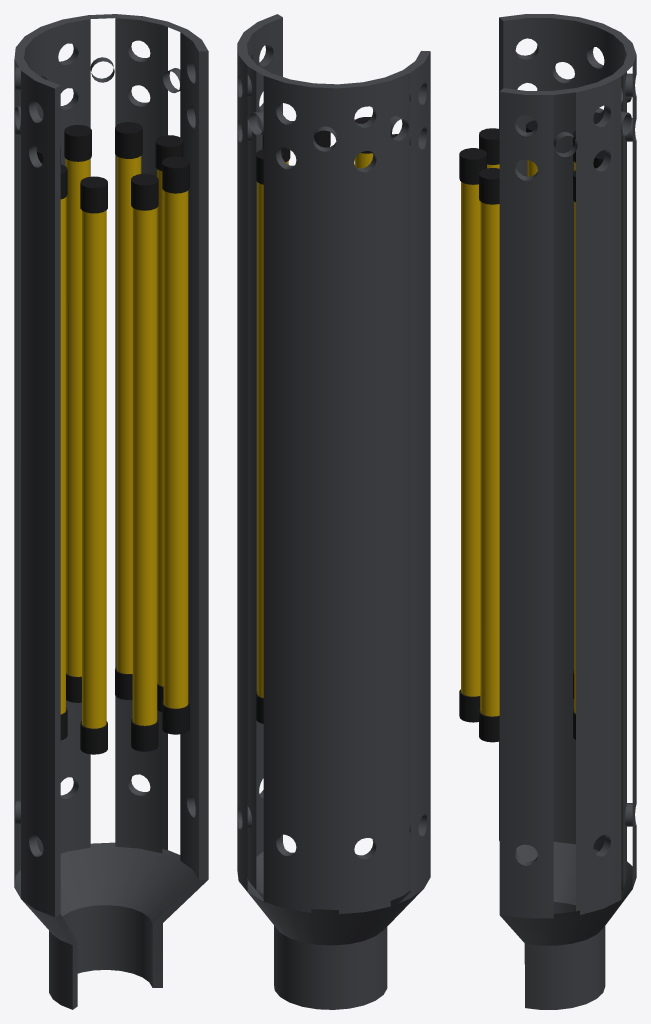
Rendered from brenselstav_v1.dae.
3 renders of one model, left to right at view 1: azimuth 30°, elevation 25°; view 2: azimuth 150°, elevation 25°; view 3: azimuth 270°, elevation 25°, orthographic.
Parts seen in each view (by area): view 1: brenselstav_skall, brensel1 (×7), brenseltopp (×6), brenselbunn (×4); view 2: brenselstav_skall, brensel1; view 3: brenselstav_skall, brensel1 (×3), brenseltopp (×3), brenselbunn (×2).
Part boxes in pixels (box(x1,y1,x2,y2)): brenselstav_skall: box(14, 14, 208, 1009); brensel1 (×7): box(60, 156, 188, 728); brenseltopp (×6): box(64, 122, 189, 213); brenselbunn (×4): box(80, 666, 189, 754); brenselstav_skall: box(237, 14, 430, 1009); brensel1: box(257, 182, 263, 697); brenselstav_skall: box(499, 14, 636, 1009); brensel1 (×3): box(461, 182, 575, 716); brenseltopp (×3): box(459, 128, 499, 204); brenselbunn (×2): box(459, 689, 499, 742).
Bounding box in the file's own units: 1.98 × 10.61 × 1.83.
